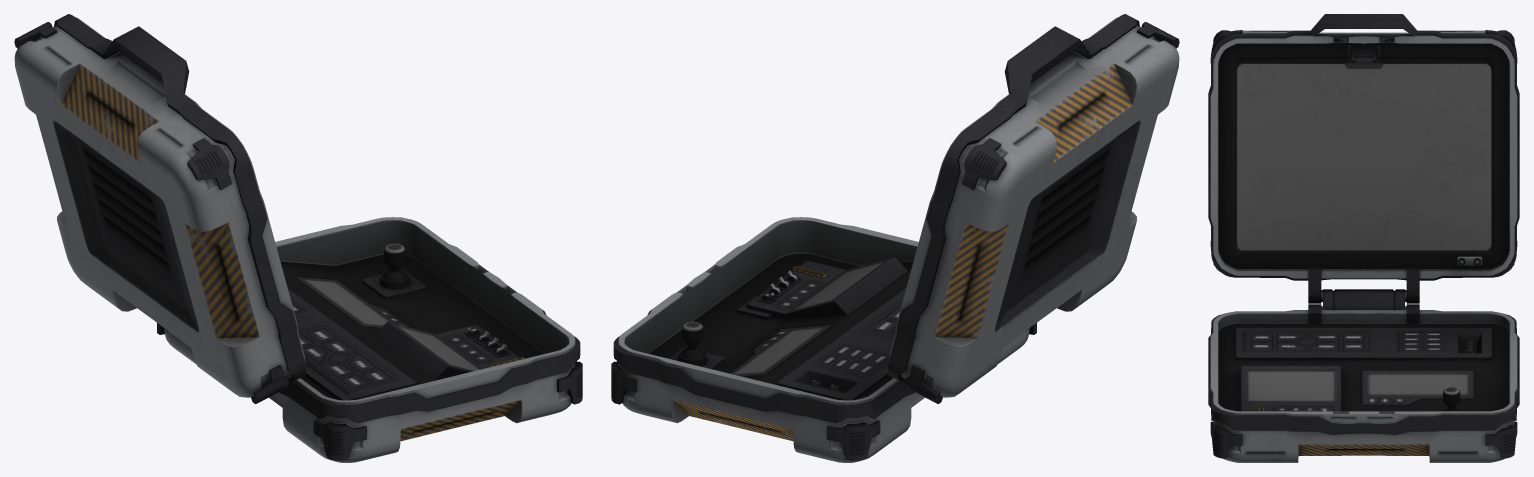
Rendered from Laptop.fbx.
3 renders of one model, left to right at view 1: azimuth 30°, elevation 25°; view 2: azimuth 150°, elevation 25°; view 3: azimuth 270°, elevation 25°, orthographic. The views are drawn at different scales.
Parts seen in each view (by area): view 1: Laptop_Top, Laptop_Base; view 2: Laptop_Top, Laptop_Base; view 3: Laptop_Top, Laptop_Base.
Part boxes in pixels (bbox=[...]): Laptop_Top: bbox=[14, 14, 305, 403]; Laptop_Base: bbox=[157, 217, 582, 462]; Laptop_Top: bbox=[888, 14, 1179, 403]; Laptop_Base: bbox=[611, 217, 1036, 462]; Laptop_Top: bbox=[1208, 14, 1519, 303]; Laptop_Base: bbox=[1208, 289, 1519, 462].
Bounding box in the file's own units: 51.88 × 46.91 × 41.99.
Materials: 1 (1 with a texture image).
